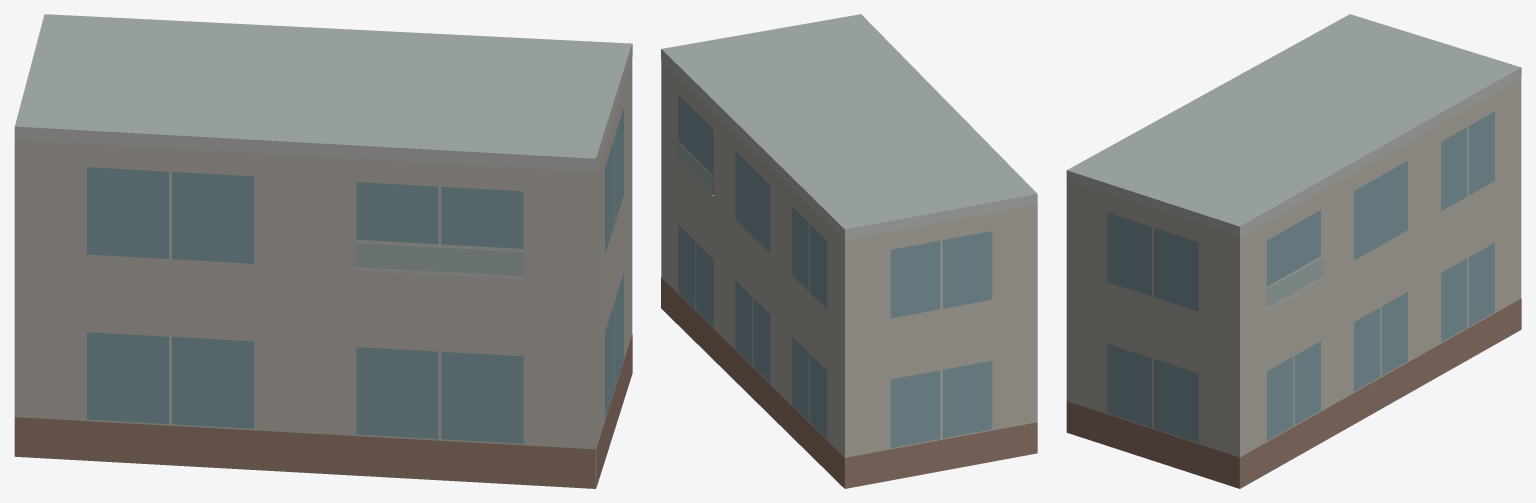
Rendered from survey-upis-32495035.glb.
3 views of the same model, side by side, from view 1: azimuth 30°, elevation 25°; view 2: azimuth 150°, elevation 25°; view 3: azimuth 270°, elevation 25° (orthographic). The views are drawn at different scales.
Visible parts, largest first — view 1: survey-upis-32495035.tmp; view 2: survey-upis-32495035.tmp; view 3: survey-upis-32495035.tmp.
Boxes of the visible parts, x1=… form: survey-upis-32495035.tmp: x1=14, y1=14, x2=632, y2=488; survey-upis-32495035.tmp: x1=661, y1=14, x2=1037, y2=488; survey-upis-32495035.tmp: x1=1066, y1=14, x2=1521, y2=488.
Size of the model in its own units: 10.44 by 6 by 9.44.
